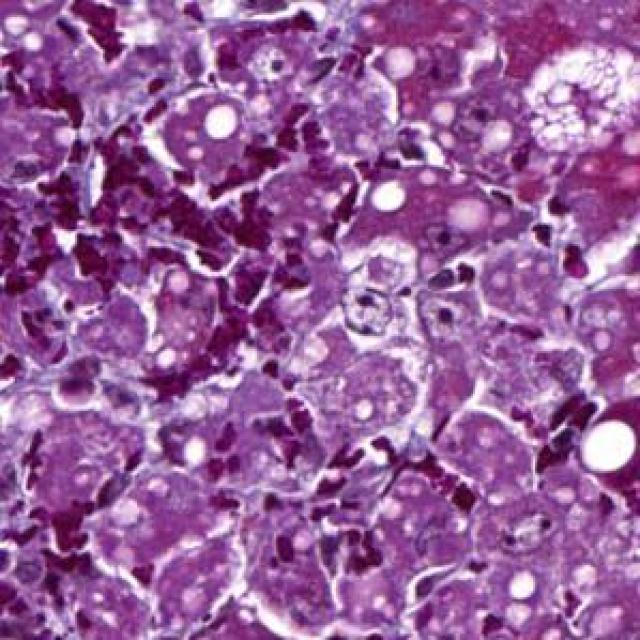ballooning: (509, 39, 636, 162)
